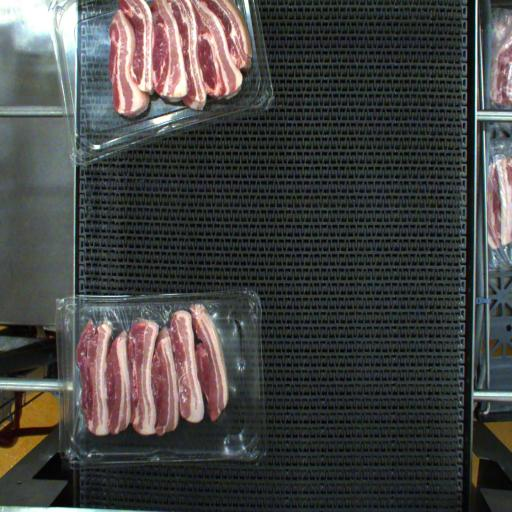unsealed: (66, 301, 244, 445)
